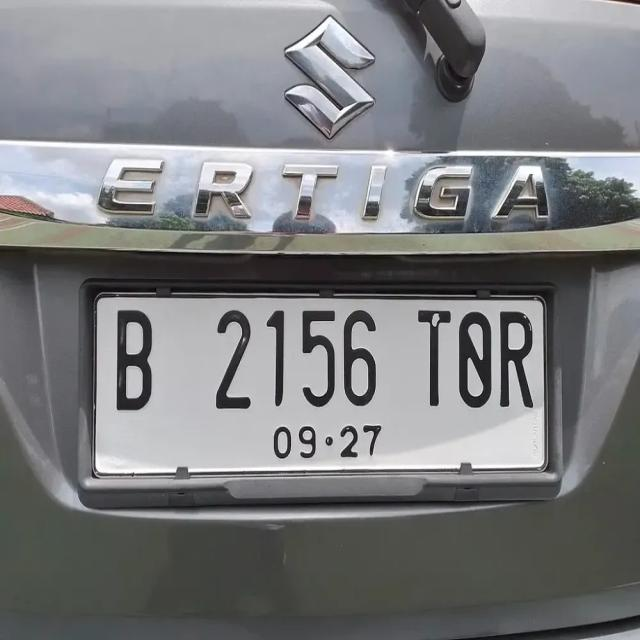license-plat: (88, 284, 556, 492)
